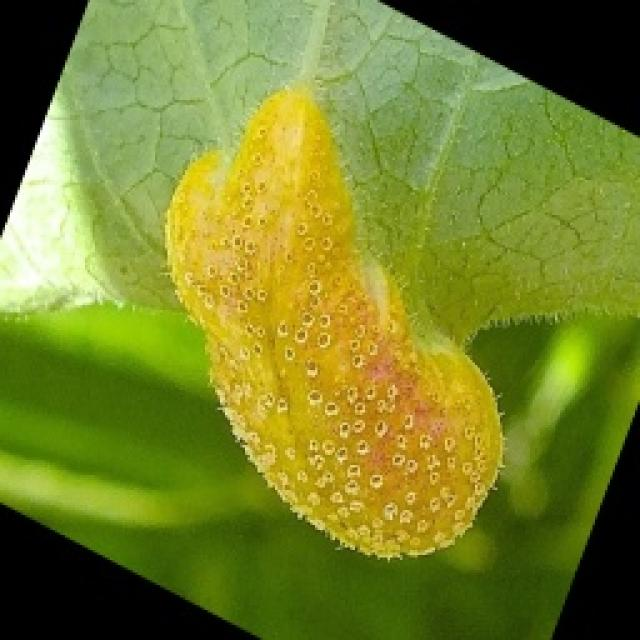Elderberry_rust: (126, 106, 521, 556)
